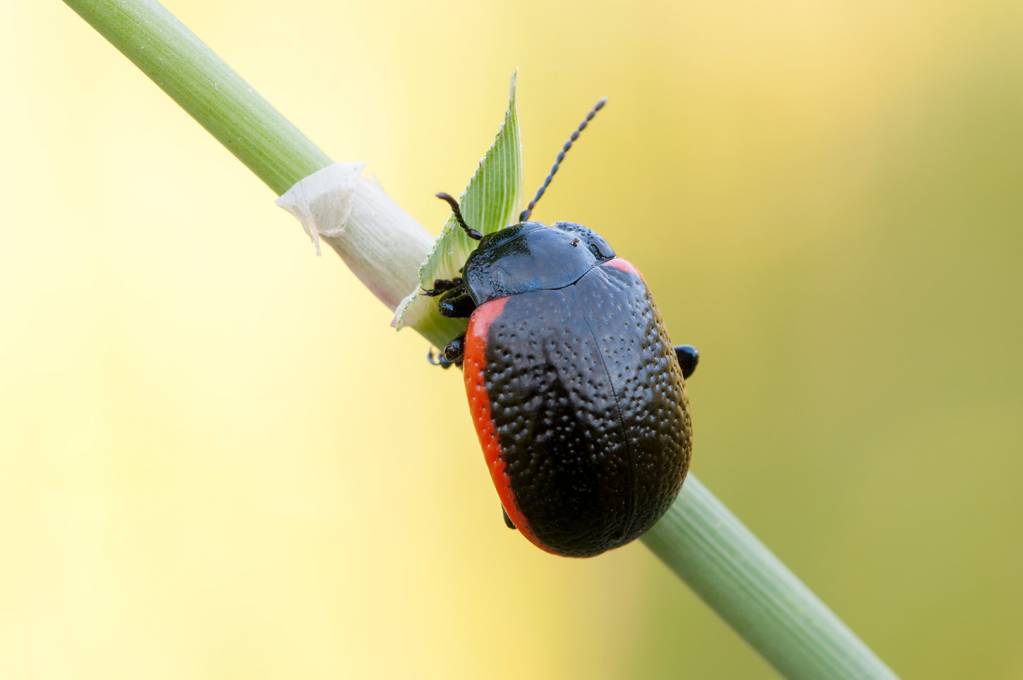Chrysolina_gypsophila: (424, 86, 718, 562)
